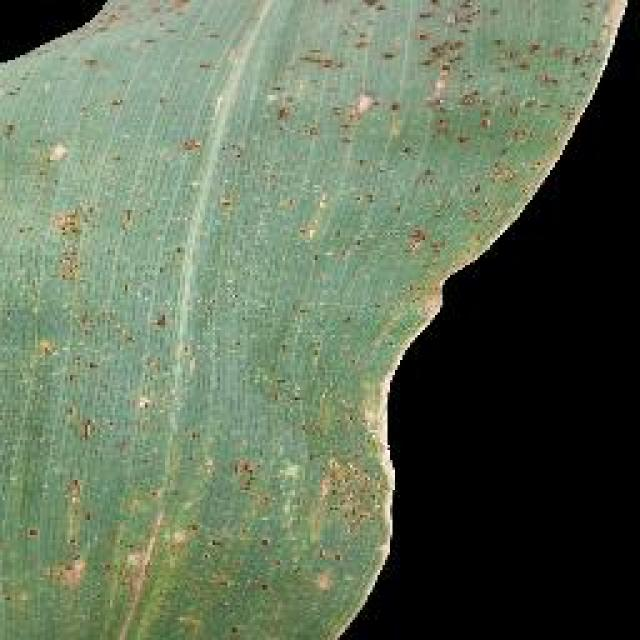Corn Common Rust: (121, 45, 552, 543)
